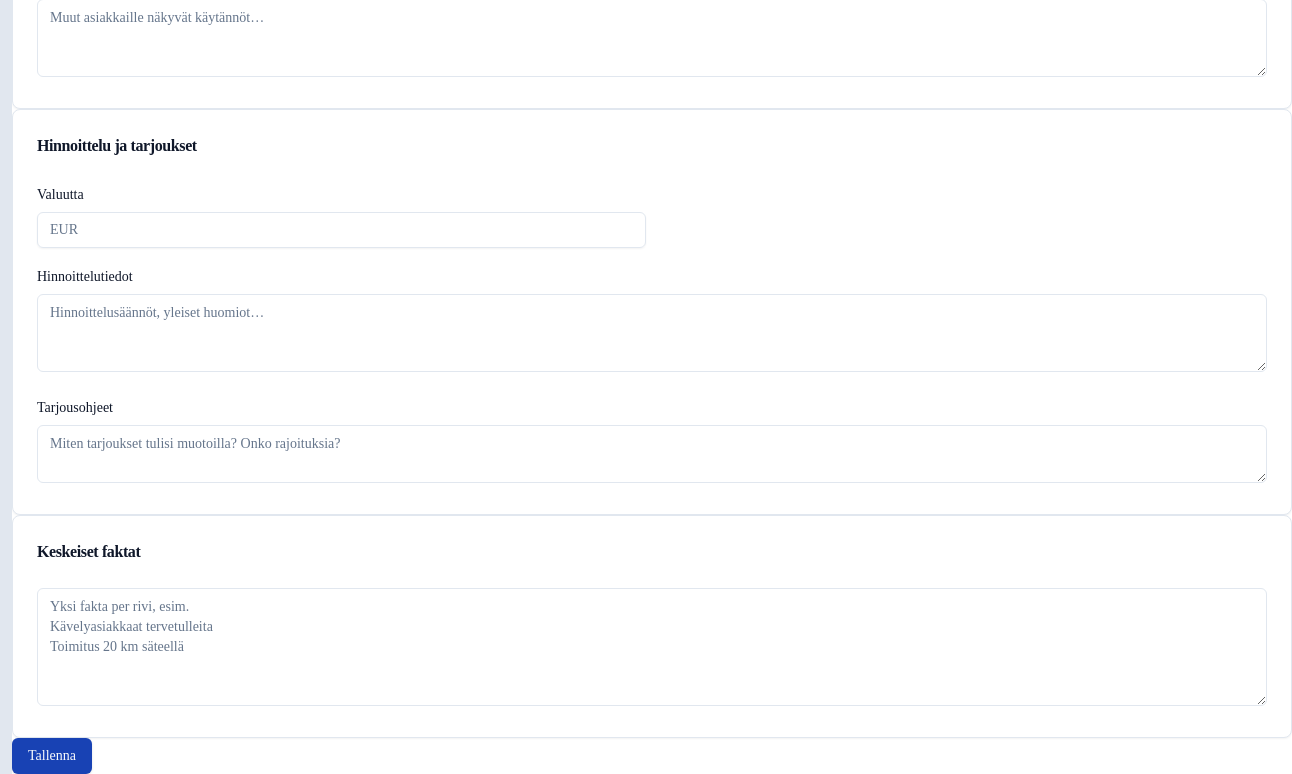
Test: Business DNA form: a save conflicting with a newer change › is localized (fi)
(page scrolled)
Click the button "Tallenna".
click(52, 756)  # box [12,738,92,773]
(page scrolled)
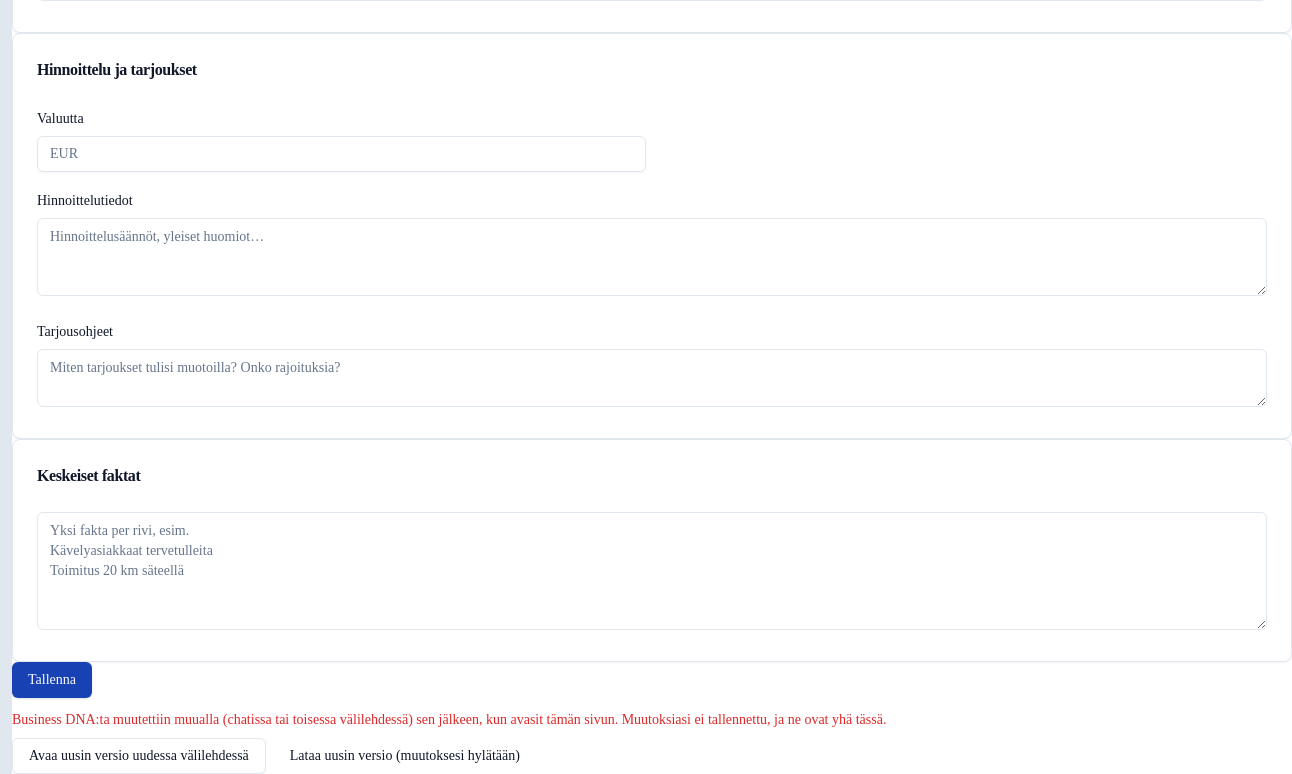
Expected: the message shows "Business DNA:ta muutettiin muualla (chatissa tai toisessa välilehdessä) sen jälkeen, kun avasit tämän sivun. Muutoksiasi ei tallennettu, ja ne ovat yhä tässä.", [12,712,886,727]
Expected: the button "Lataa uusin versio (muutoksesi hylätään)" is shown, [274,738,536,773]
